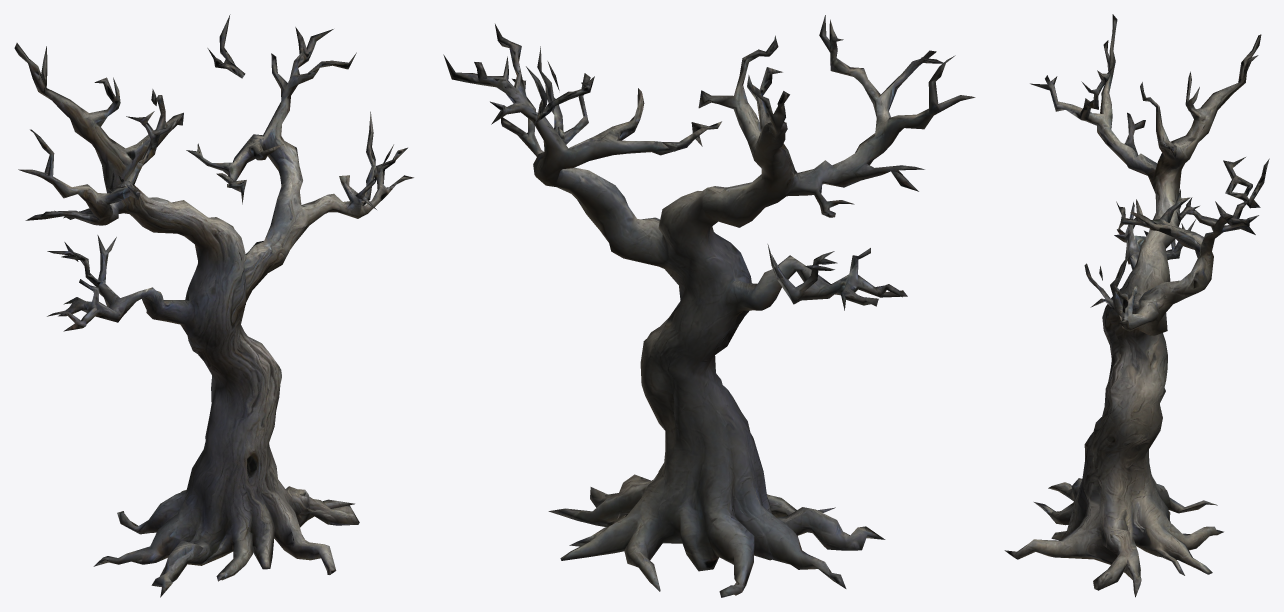
The model's file is treeA.glb.
The picture shows the model from 3 angles, left to right: view 1: azimuth 30°, elevation 25°; view 2: azimuth 150°, elevation 25°; view 3: azimuth 270°, elevation 25°; orthographic projection. The views are drawn at different scales.
Size of the model in its own units: 1.76 by 2 by 1.08.
1 material, 1 textured.
